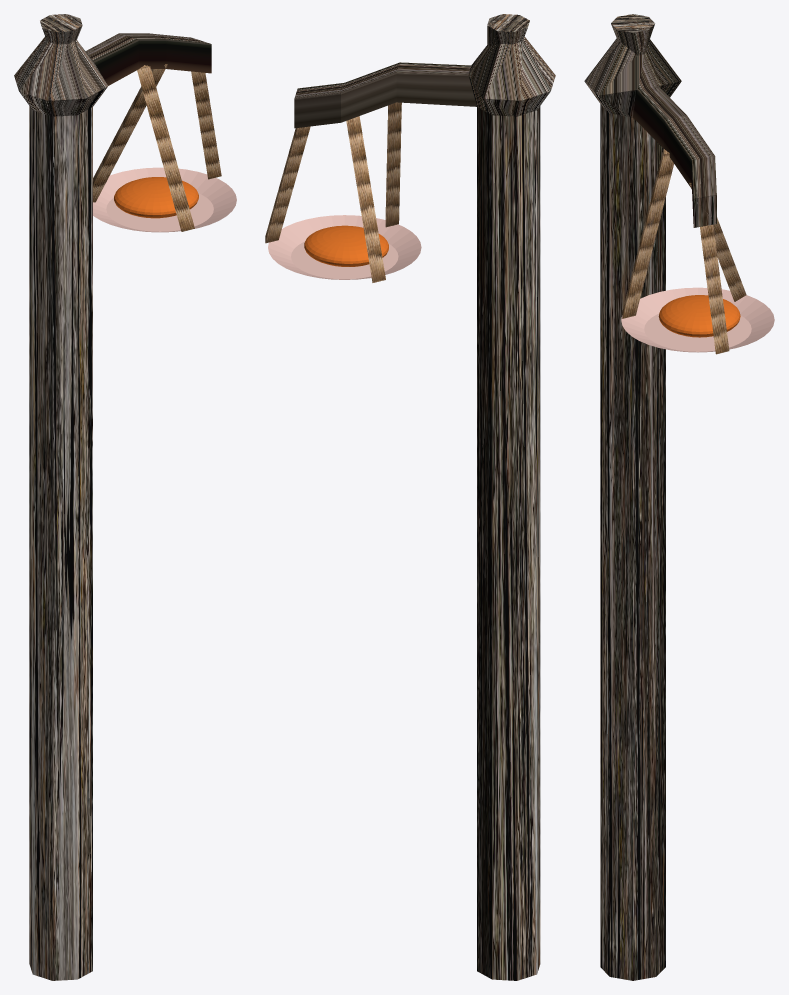
The model's file is lamppost.fbx.
3 views of the same model, side by side, from view 1: azimuth 30°, elevation 25°; view 2: azimuth 150°, elevation 25°; view 3: azimuth 270°, elevation 25° (orthographic).
Parts seen in each view (by area): view 1: Cylinder, Circle, Cylinder.003, Sphere, Cylinder.002, Cylinder.001; view 2: Cylinder, Circle, Cylinder.002, Sphere, Cylinder.003, Cylinder.001; view 3: Cylinder, Circle, Cylinder.003, Sphere, Cylinder.001, Cylinder.002.
Part boxes in pixels (x1,y1,x2,y2): Cylinder: (14,14,211,980); Circle: (93,167,236,232); Cylinder.003: (137,65,194,231); Sphere: (114,177,198,218); Cylinder.002: (93,64,167,202); Cylinder.001: (191,71,221,179); Cylinder: (294,14,555,980); Circle: (268,215,421,279); Cylinder.002: (346,116,385,282); Sphere: (304,225,388,266); Cylinder.003: (385,102,401,227); Cylinder.001: (265,126,310,243); Cylinder: (584,14,716,980); Circle: (621,287,774,352); Cylinder.003: (622,149,673,318); Sphere: (658,295,740,337); Cylinder.001: (700,224,729,354); Cylinder.002: (689,183,746,301).
Bounding box in the file's own units: 85.81 × 317 × 57.99.
